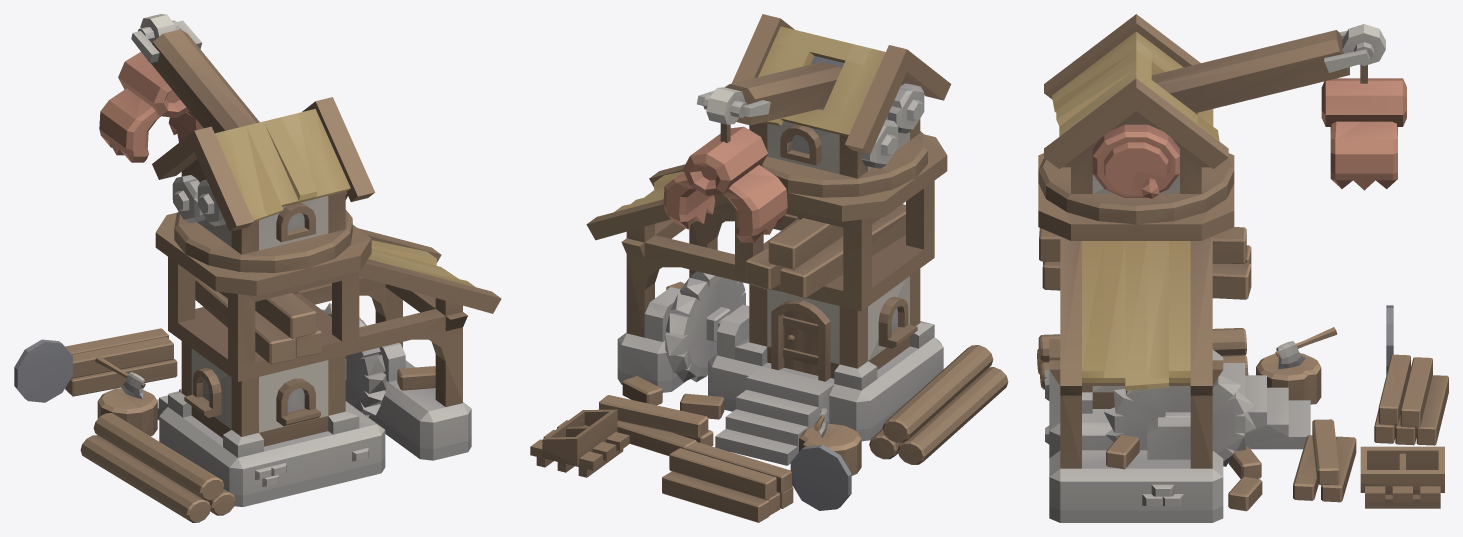
Rendered from sawmill.glb.
3 views of the same model, side by side, from view 1: azimuth 30°, elevation 25°; view 2: azimuth 150°, elevation 25°; view 3: azimuth 270°, elevation 25° (orthographic). The views are drawn at different scales.
Visible parts, largest first — view 1: sawmill; view 2: sawmill; view 3: sawmill.
Part boxes in pixels (<box>): sawmill: <box>14,14,501,522</box>; sawmill: <box>530,14,1008,522</box>; sawmill: <box>1037,14,1448,522</box>.
Bounding box in the file's own units: 2.33 × 2.44 × 2.25.
